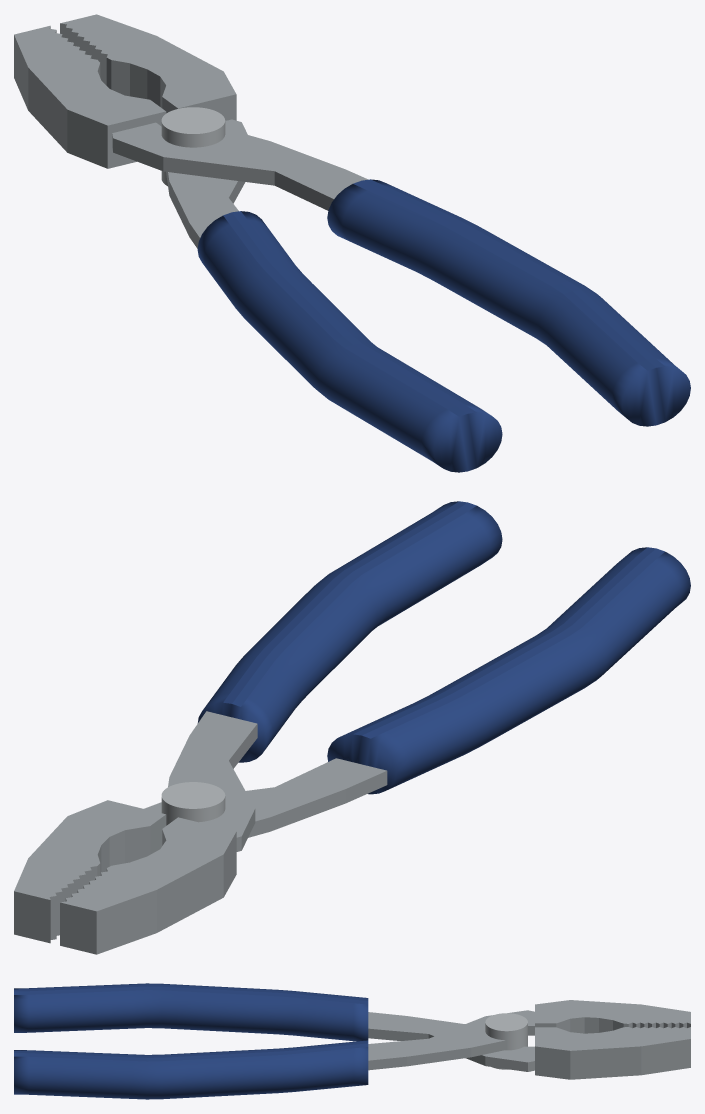
3 views of the same model, one above another, from view 1: azimuth 30°, elevation 25°; view 2: azimuth 150°, elevation 25°; view 3: azimuth 270°, elevation 25° (orthographic). The views are drawn at different scales.
Parts seen in each view (by area): view 1: Left jaw right handle molded grip, Right jaw left handle molded grip, Left jaw right handle serrated combination jaw, Right jaw left handle serrated combination jaw, Left jaw right handle half lap steel arm, Right jaw left handle half lap steel arm, Fixed central pivot rivet; view 2: Right jaw left handle molded grip, Left jaw right handle molded grip, Left jaw right handle serrated combination jaw, Right jaw left handle serrated combination jaw, Left jaw right handle half lap steel arm, Right jaw left handle half lap steel arm, Fixed central pivot rivet; view 3: Left jaw right handle molded grip, Right jaw left handle molded grip, Right jaw left handle serrated combination jaw, Left jaw right handle half lap steel arm, Left jaw right handle serrated combination jaw, Right jaw left handle half lap steel arm, Fixed central pivot rivet.
Boxes of the visible parts, left/top/right/bottom form: Left jaw right handle molded grip: left=327, top=179, right=690, bottom=426; Right jaw left handle molded grip: left=197, top=211, right=502, bottom=472; Left jaw right handle serrated combination jaw: left=14, top=25, right=166, bottom=168; Right jaw left handle serrated combination jaw: left=60, top=14, right=236, bottom=120; Left jaw right handle half lap steel arm: left=112, top=122, right=367, bottom=210; Right jaw left handle half lap steel arm: left=166, top=119, right=247, bottom=248; Fixed central pivot rivet: left=161, top=107, right=225, bottom=186; Right jaw left handle molded grip: left=327, top=547, right=690, bottom=794; Left jaw right handle molded grip: left=197, top=501, right=502, bottom=762; Left jaw right handle serrated combination jaw: left=60, top=817, right=236, bottom=954; Right jaw left handle serrated combination jaw: left=14, top=800, right=166, bottom=943; Left jaw right handle half lap steel arm: left=168, top=711, right=257, bottom=851; Right jaw left handle half lap steel arm: left=144, top=758, right=387, bottom=837; Fixed central pivot rivet: left=161, top=782, right=225, bottom=825; Left jaw right handle molded grip: left=14, top=1040, right=368, bottom=1099; Right jaw left handle molded grip: left=14, top=983, right=368, bottom=1041; Right jaw left handle serrated combination jaw: left=535, top=1027, right=690, bottom=1079; Left jaw right handle half lap steel arm: left=368, top=1010, right=534, bottom=1070; Left jaw right handle serrated combination jaw: left=535, top=1000, right=690, bottom=1033; Right jaw left handle half lap steel arm: left=368, top=1012, right=534, bottom=1071; Fixed central pivot rivet: left=485, top=1013, right=527, bottom=1069.
Bounding box in the file's own units: 0.0627 × 0.012 × 0.191.
